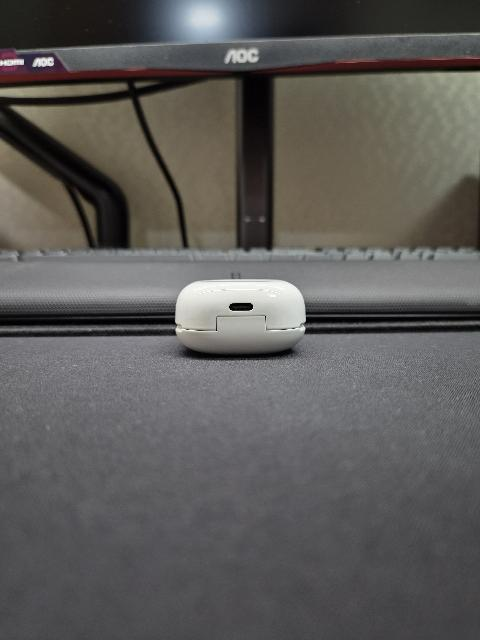earphone_case: (175, 279, 306, 355)
